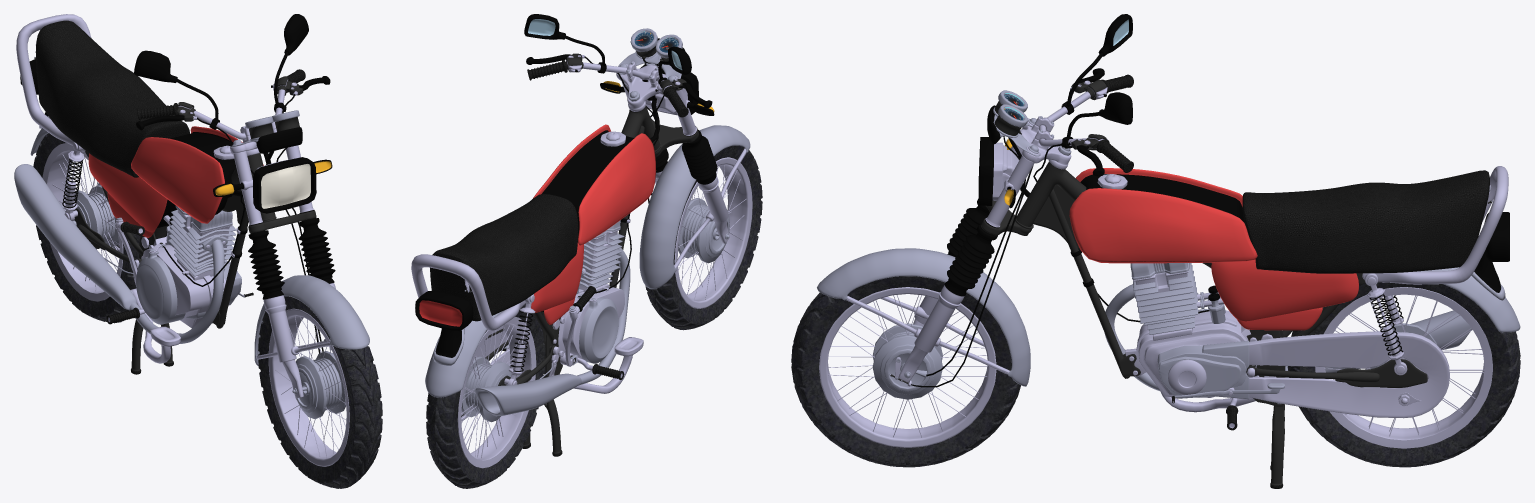
File: honda-cg-125.glb
3 views of the same model, side by side, from view 1: azimuth 30°, elevation 25°; view 2: azimuth 150°, elevation 25°; view 3: azimuth 270°, elevation 25° (orthographic). The views are drawn at different scales.
Visible parts, largest first — view 1: chassis_body, steering_upper_mesh, front_wheel_mesh, rear_wheel_mesh, lamp_headlight, brake_pedal_mesh, kickstand_mesh, kickstarter_mesh; view 2: chassis_body, steering_upper_mesh, front_wheel_mesh, rear_wheel_mesh, brake_pedal_mesh, lamp_taillight, kickstarter_mesh, kickstand_mesh; view 3: chassis_body, steering_upper_mesh, front_wheel_mesh, rear_wheel_mesh, kickstand_mesh, brake_pedal_mesh.
Part boxes in pixels (bbox=[...]): chassis_body: bbox=[14, 14, 275, 343]; steering_upper_mesh: bbox=[134, 14, 369, 398]; front_wheel_mesh: bbox=[258, 296, 382, 488]; rear_wheel_mesh: bbox=[33, 133, 140, 323]; lamp_headlight: bbox=[261, 164, 310, 208]; brake_pedal_mesh: bbox=[131, 273, 180, 363]; kickstand_mesh: bbox=[131, 319, 173, 374]; kickstarter_mesh: bbox=[116, 217, 144, 280]; chassis_body: bbox=[411, 105, 659, 421]; steering_upper_mesh: bbox=[524, 14, 750, 293]; front_wheel_mesh: bbox=[645, 145, 762, 330]; rear_wheel_mesh: bbox=[426, 303, 545, 488]; brake_pedal_mesh: bbox=[548, 337, 643, 393]; lamp_taillight: bbox=[419, 300, 462, 326]; kickstarter_mesh: bbox=[565, 286, 596, 366]; kickstand_mesh: bbox=[522, 375, 562, 456]; chassis_body: bbox=[1016, 162, 1520, 430]; steering_upper_mesh: bbox=[817, 14, 1209, 387]; front_wheel_mesh: bbox=[791, 276, 1020, 467]; rear_wheel_mesh: bbox=[1287, 282, 1520, 467]; kickstand_mesh: bbox=[1270, 404, 1284, 488]; brake_pedal_mesh: bbox=[1160, 391, 1255, 412].
Size of the model in its own units: 0.6464 by 1.25 by 1.96.
20 materials, 5 textured.
